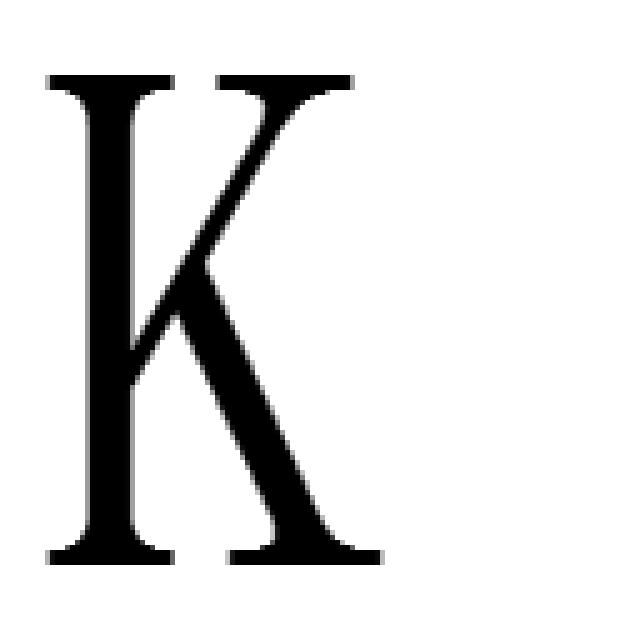K: (30, 69, 403, 572)
